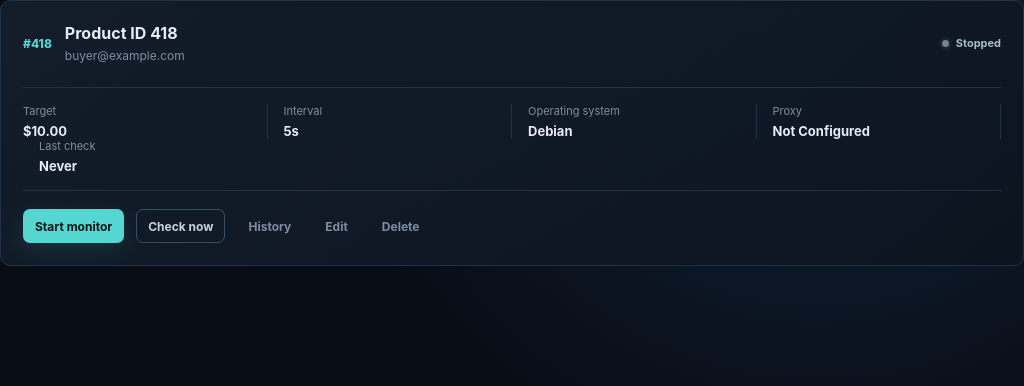
Scenario: TaskCard operation locking › announces task history query failures as alerts
The width and height of the screenshot is (1024, 386).
Step 1. Click the button "History" → (270, 226), box [237,209,302,243]
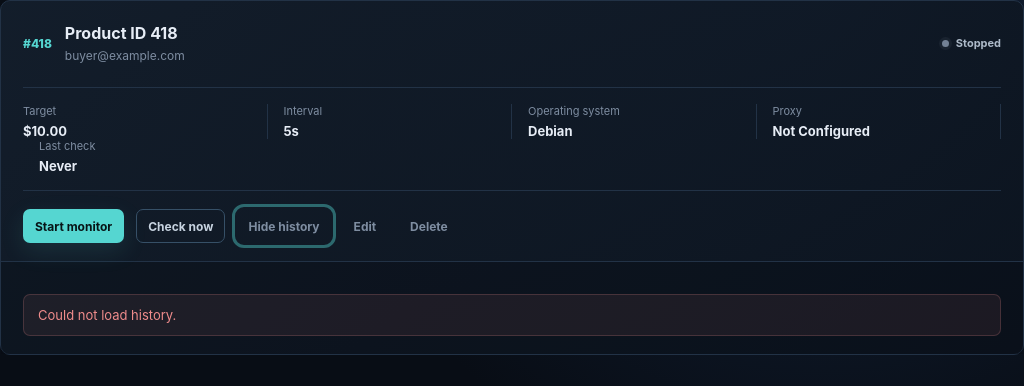
Now the message shows "Could not load history", box [38,307,176,323]
